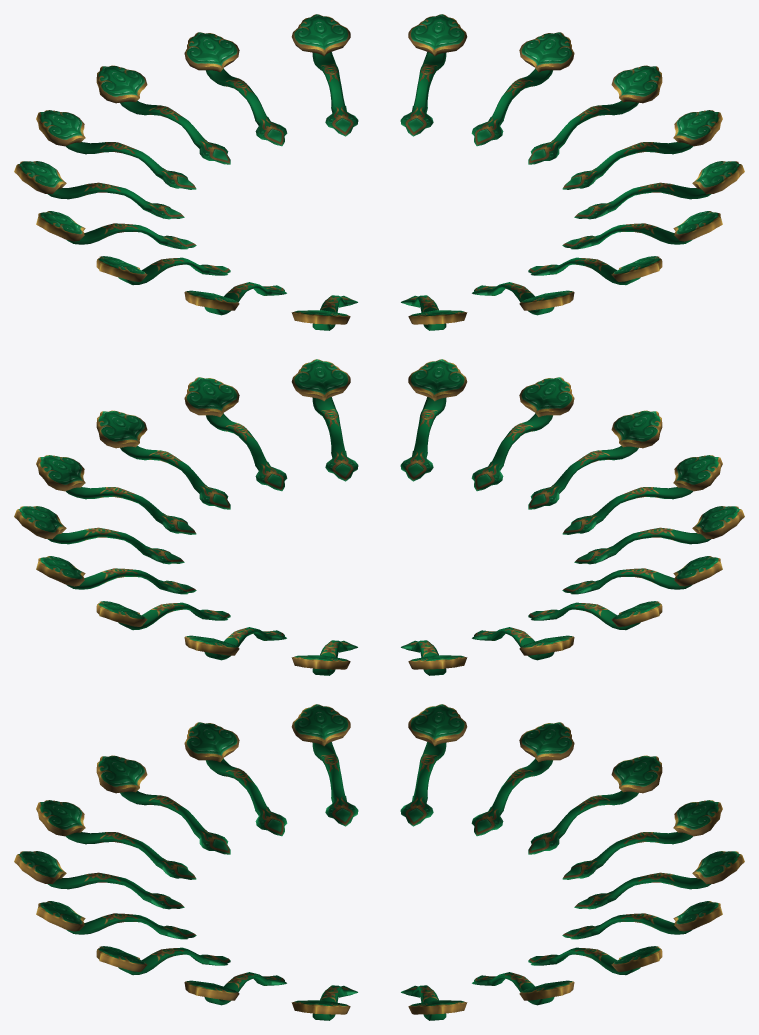
Rendered from vfx_xy_ruyi.FBX.
3 renders of one model, top to bottom at view 1: azimuth 30°, elevation 25°; view 2: azimuth 150°, elevation 25°; view 3: azimuth 270°, elevation 25°, orthographic.
Parts seen in each view (by area): view 1: vfx_xy_ruyi001; view 2: vfx_xy_ruyi001; view 3: vfx_xy_ruyi001.
Part boxes in pixels (box(x1,y1,x2,y2)): vfx_xy_ruyi001: box(14, 14, 744, 330); vfx_xy_ruyi001: box(14, 359, 744, 675); vfx_xy_ruyi001: box(14, 704, 744, 1020).
Bounding box in the file's own units: 2776 × 230 × 2819.
